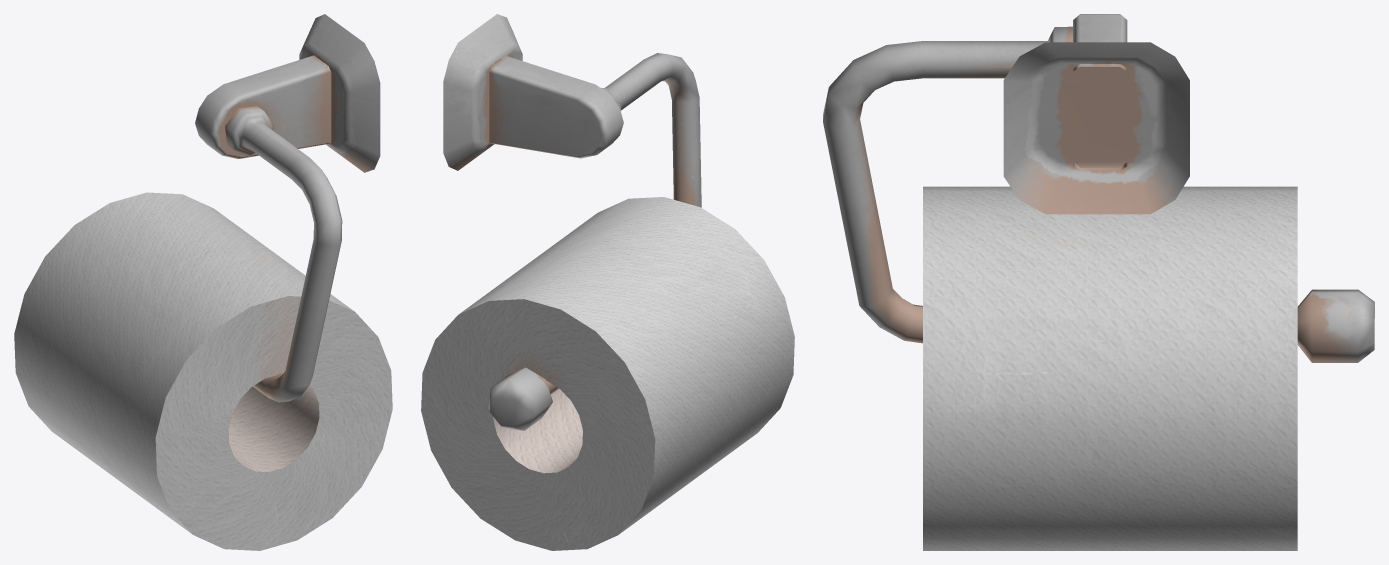
The model's file is SM_ToiletPaper_A1.fbx.
3 views of the same model, side by side, from view 1: azimuth 30°, elevation 25°; view 2: azimuth 150°, elevation 25°; view 3: azimuth 270°, elevation 25° (orthographic). The views are drawn at different scales.
Parts seen in each view (by area): view 1: SM_ToiletPaper_A1; view 2: SM_ToiletPaper_A1; view 3: SM_ToiletPaper_A1.
Boxes of the visible parts, x1=… form: SM_ToiletPaper_A1: x1=14, y1=14, x2=392, y2=550; SM_ToiletPaper_A1: x1=421, y1=14, x2=794, y2=550; SM_ToiletPaper_A1: x1=823, y1=14, x2=1374, y2=550.
Size of the model in its own units: 13.73 by 19.41 by 22.49.
1 material, 1 textured.
